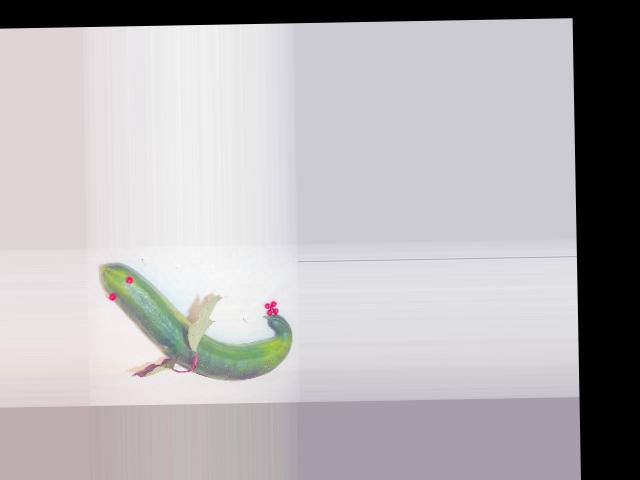cucumber: (101, 259, 293, 382)
